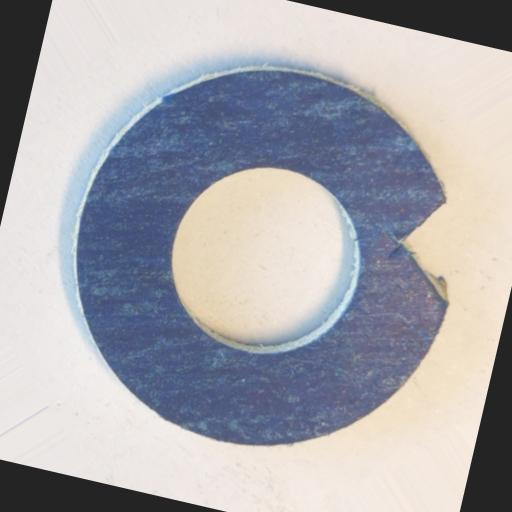defect: (374, 190, 471, 308)
